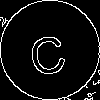C: (25, 25, 69, 77)
